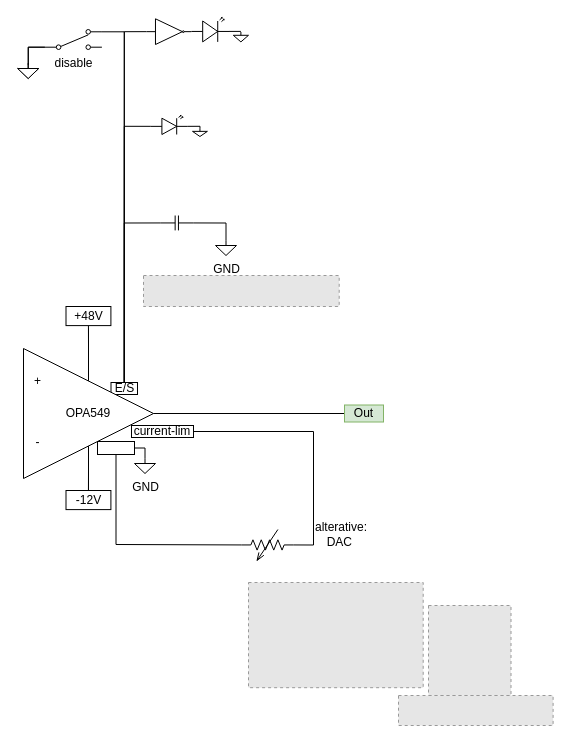
The diagram is 571 pixels wide and 743 high, and some of its shapes have lost their labels. Grey dashed boxes stand in for pictures. Each missing label, with the centre of its shape:
C_ref: the point at 176,222
digipot: the point at 267,544
Output disabled LED: the point at 169,124
Output enabled LED: the point at 209,29
ref-pin: the point at 115,447
